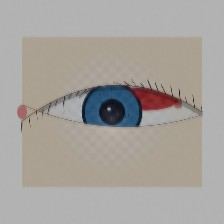hemorrhage_spot: (103, 63, 191, 134)
